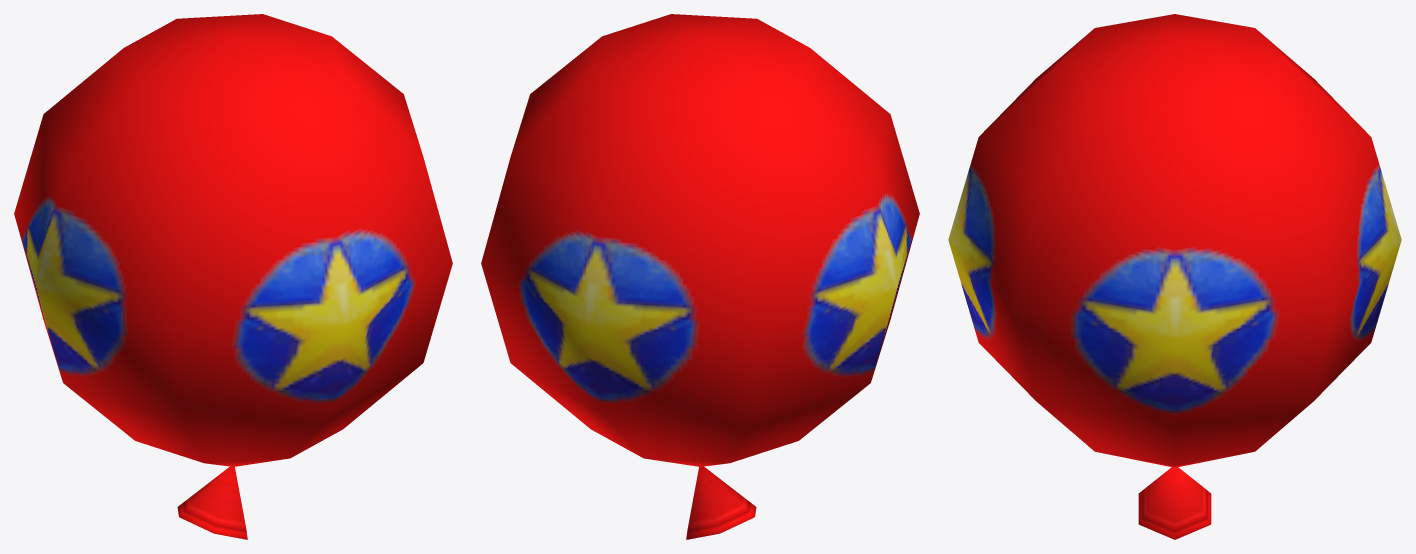
File: ItemBalloon.obj
3 renders of one model, left to right at view 1: azimuth 30°, elevation 25°; view 2: azimuth 150°, elevation 25°; view 3: azimuth 270°, elevation 25°, orthographic.
Bounding box in the file's own units: 48.18 × 57.81 × 48.18.
1 material, 1 textured.
